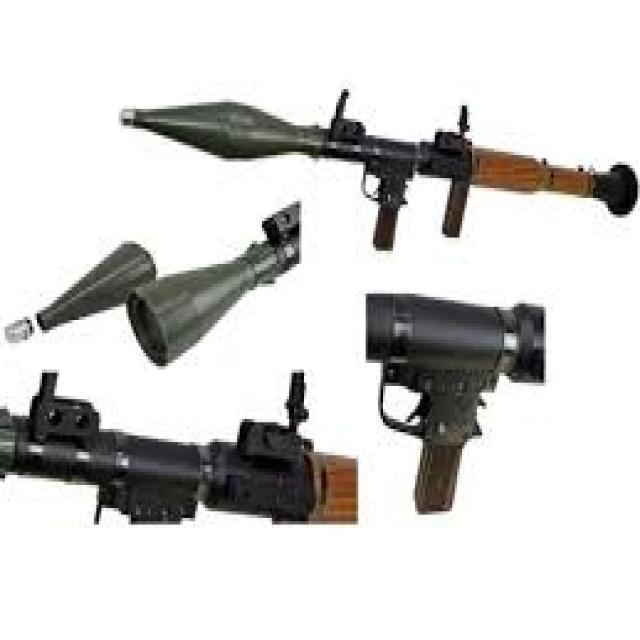bazooka: (118, 99, 636, 222)
